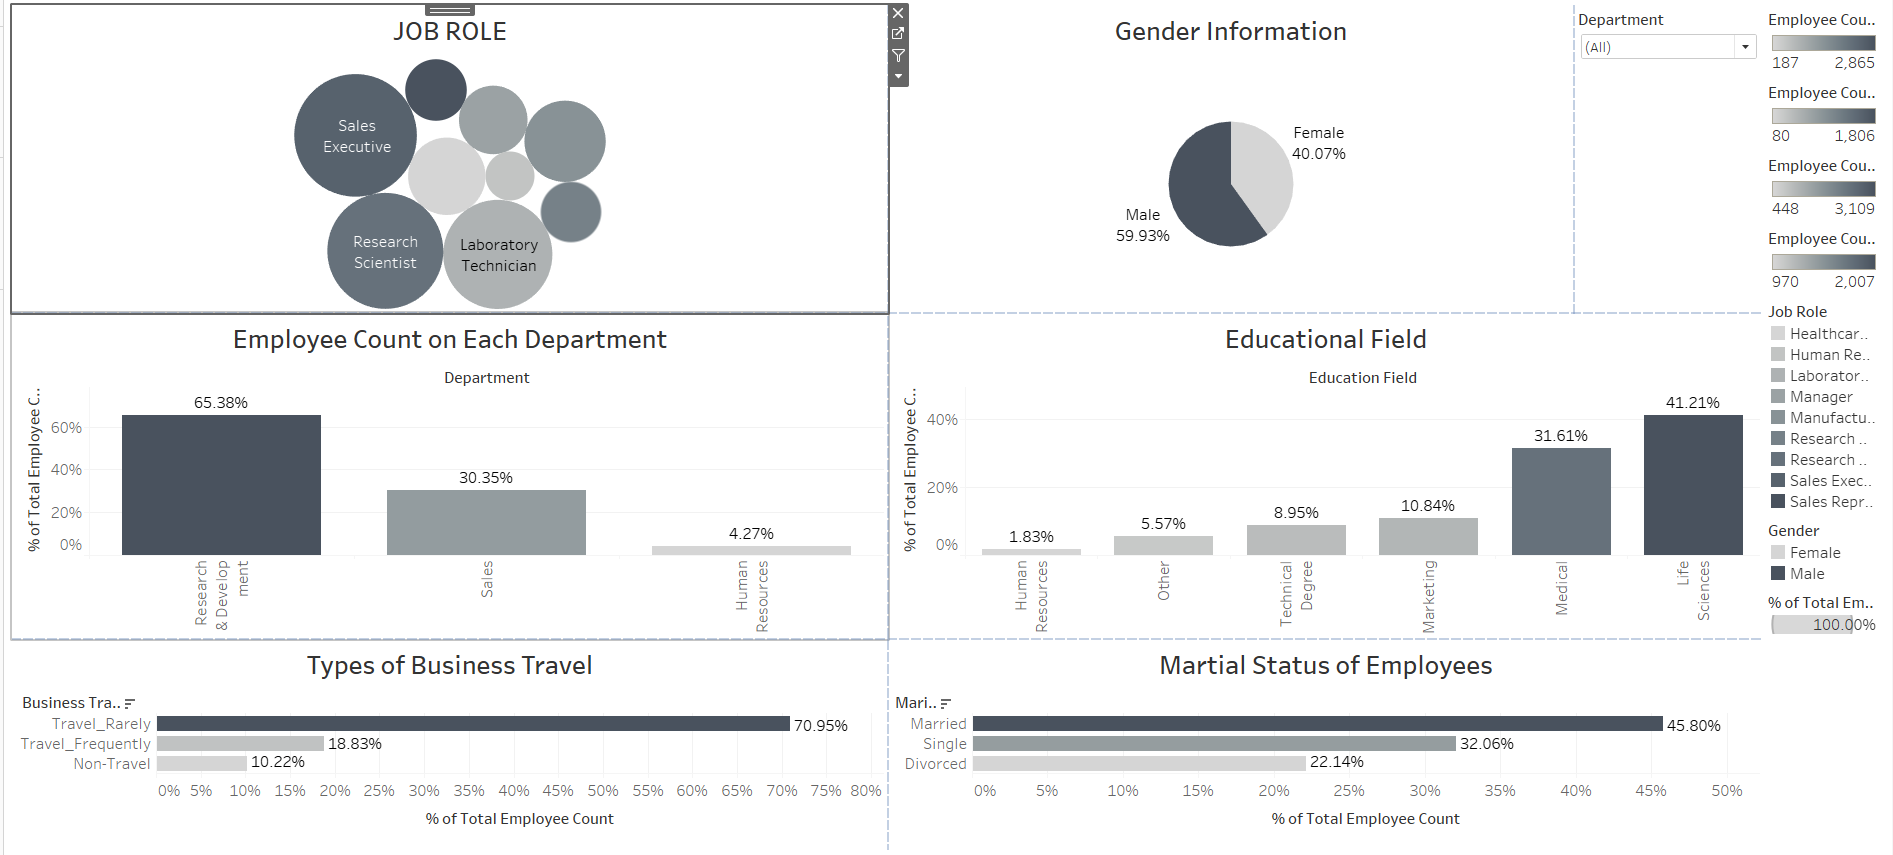

This screenshot's page, from the dashboard's own definition file:
{"tool":"tableau","page":{"name":"Dashboard 1","canvas":[1000,1000],"units":"permille","ordinal":0},"visuals":[{"type":"worksheet","title":"JOB ROLE","mark":"Circle","box":[4.8,9.3,458.9,357.7]},{"type":"worksheet","title":"Sheet 6 (2)","mark":"Pie","box":[463.8,9.3,359.7,357.7]},{"type":"filter","title":"Sheet 10","param":"[federated.0j0eqzi1m7ro331365rb91to361o].[none:Department:nk]","box":[823.4,9.3,99.3,357.7]},{"type":"legend","title":"Sheet 8","param":"[federated.0j0eqzi1m7ro331365rb91to361o].[cnt:EmployeeCount:qk]","box":[922.8,9.3,72.4,84.8]},{"type":"legend","title":"Sheet 9","param":"[federated.0j0eqzi1m7ro331365rb91to361o].[cnt:EmployeeCount:qk]","box":[922.8,94.1,72.4,84.8]},{"type":"legend","title":"Sheet 10","param":"[federated.0j0eqzi1m7ro331365rb91to361o].[cnt:EmployeeCount:qk]","box":[922.8,178.8,72.4,84.8]},{"type":"legend","title":"Sheet 11","param":"[federated.0j0eqzi1m7ro331365rb91to361o].[cnt:EmployeeCount:qk]","box":[922.8,263.6,72.4,84.8]},{"type":"legend","title":"JOB ROLE","param":"[federated.0j0eqzi1m7ro331365rb91to361o].[none:JobRole:nk]","box":[922.8,348.4,72.4,254.3]},{"type":"worksheet","title":"Sheet 8","mark":"Bar","rows":["EmployeeCount"],"cols":["Department"],"box":[4.8,367,458.8,378.3]},{"type":"worksheet","title":"Sheet 9","mark":"Bar","rows":["EmployeeCount"],"cols":["EducationField"],"box":[463.7,367,459.1,378.6]},{"type":"legend","title":"Sheet 6 (2)","param":"[federated.0j0eqzi1m7ro331365rb91to361o].[none:Gender:nk]","box":[922.8,602.8,72.4,83.6]},{"type":"legend","title":"Sheet 6 (2)","param":"[federated.0j0eqzi1m7ro331365rb91to361o].[pcto:cnt:EmployeeCount:qk:6]","box":[922.8,686.4,72.4,59.2]},{"type":"worksheet","title":"Sheet 10","mark":"Bar","rows":["BusinessTravel"],"box":[4.8,745.3,458.8,245.4]},{"type":"worksheet","title":"Sheet 11","mark":"Bar","rows":["MaritalStatus"],"box":[463.7,745.6,459.1,245.1]}]}

Visuals, with their boxes on the dashboard's canvas, which has no fixed pixel size, in thousandths of its width and height (x1, y1, x2, y2). These are canvas units, not pixel positions in the 1893x855 screenshot, which may show the page scaled, cropped or inside an application window:
"JOB ROLE" worksheet (Circle marks): [x1=5, y1=9, x2=464, y2=367]
"Sheet 6 (2)" worksheet (Pie marks): [x1=464, y1=9, x2=824, y2=367]
"Sheet 10" filter: [x1=823, y1=9, x2=923, y2=367]
"Sheet 8" legend: [x1=923, y1=9, x2=995, y2=94]
"Sheet 9" legend: [x1=923, y1=94, x2=995, y2=179]
"Sheet 10" legend: [x1=923, y1=179, x2=995, y2=264]
"Sheet 11" legend: [x1=923, y1=264, x2=995, y2=348]
"JOB ROLE" legend: [x1=923, y1=348, x2=995, y2=603]
"Sheet 8" worksheet (Bar marks): [x1=5, y1=367, x2=464, y2=745]
"Sheet 9" worksheet (Bar marks): [x1=464, y1=367, x2=923, y2=746]
"Sheet 6 (2)" legend: [x1=923, y1=603, x2=995, y2=686]
"Sheet 6 (2)" legend: [x1=923, y1=686, x2=995, y2=746]
"Sheet 10" worksheet (Bar marks): [x1=5, y1=745, x2=464, y2=991]
"Sheet 11" worksheet (Bar marks): [x1=464, y1=746, x2=923, y2=991]
